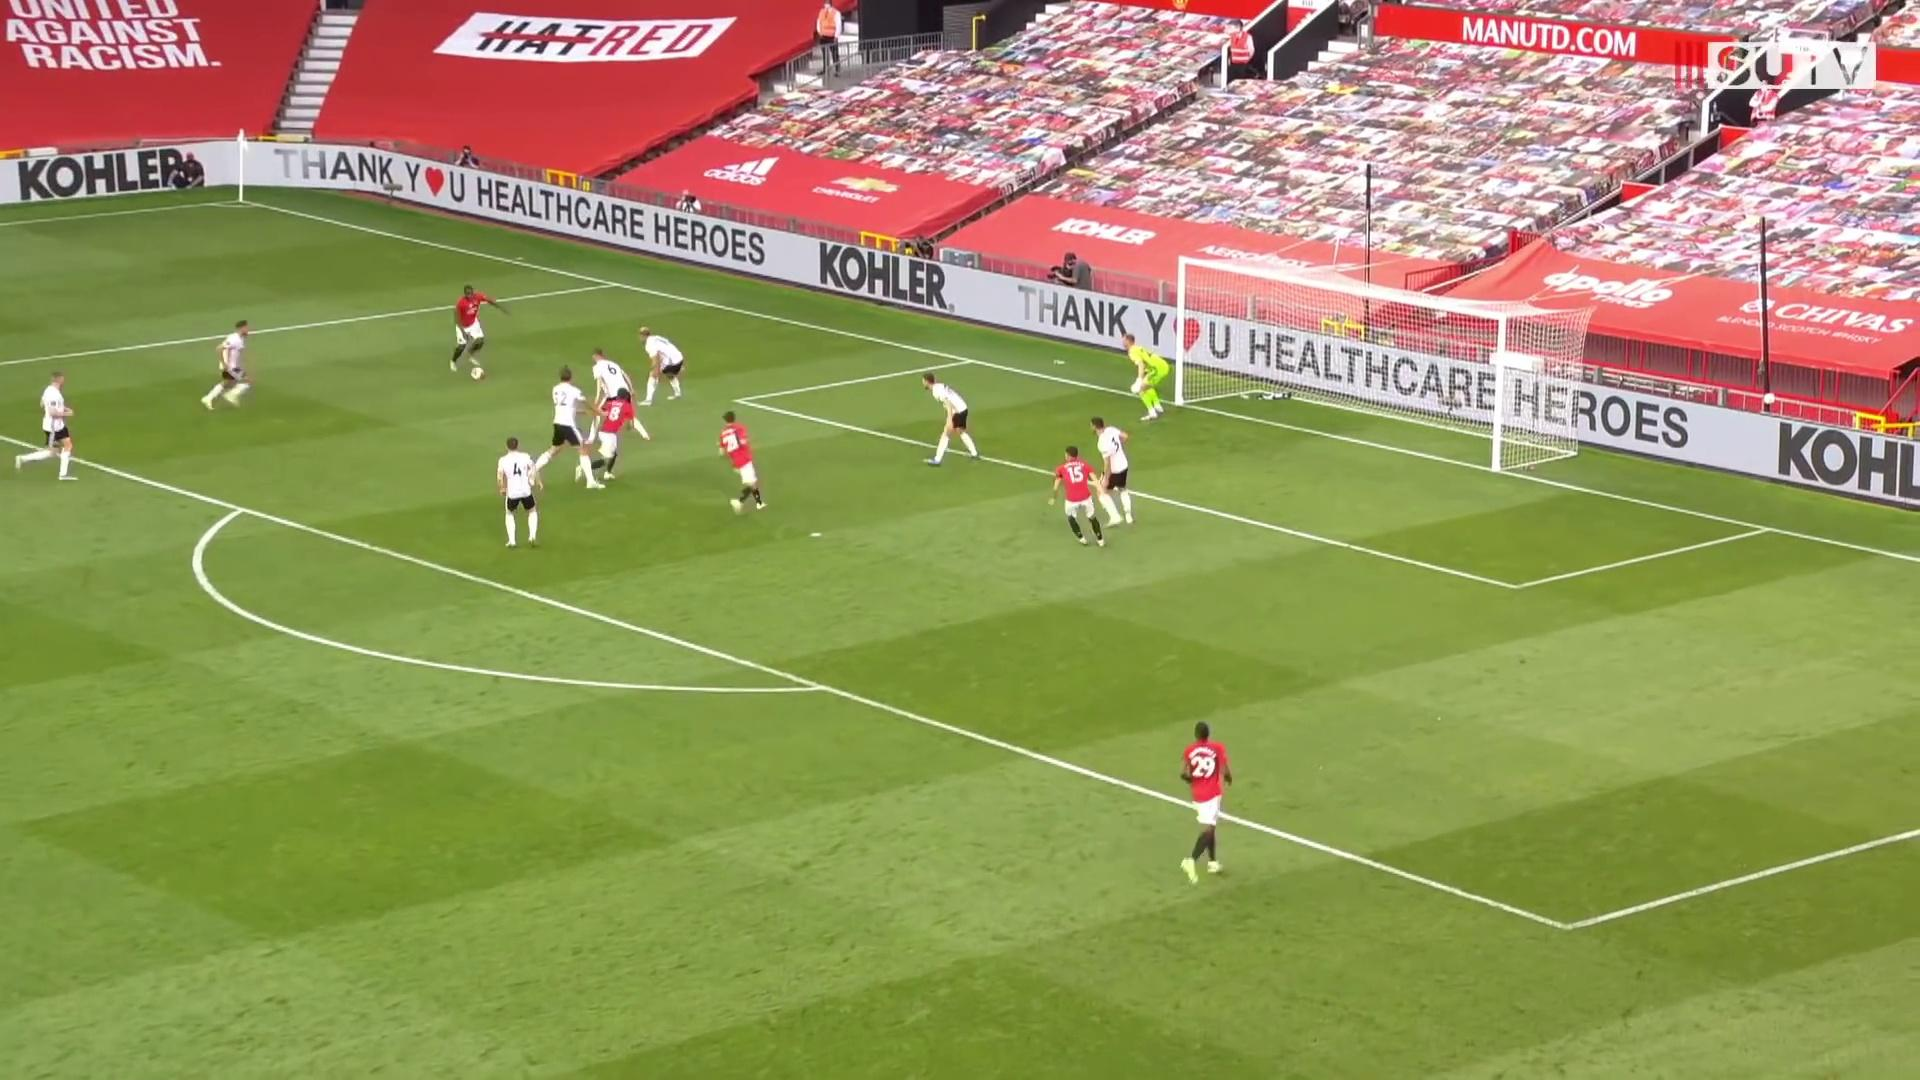ball: (467, 364, 487, 383)
goalkeeper: (1120, 331, 1174, 424)
player: (1175, 718, 1245, 889), (527, 366, 608, 493), (14, 366, 84, 486), (914, 367, 984, 468), (587, 344, 650, 451), (574, 384, 637, 491), (490, 435, 547, 551), (1047, 441, 1108, 548), (714, 407, 772, 518), (449, 284, 513, 384), (1088, 411, 1140, 530), (199, 317, 257, 417), (639, 324, 695, 408)
